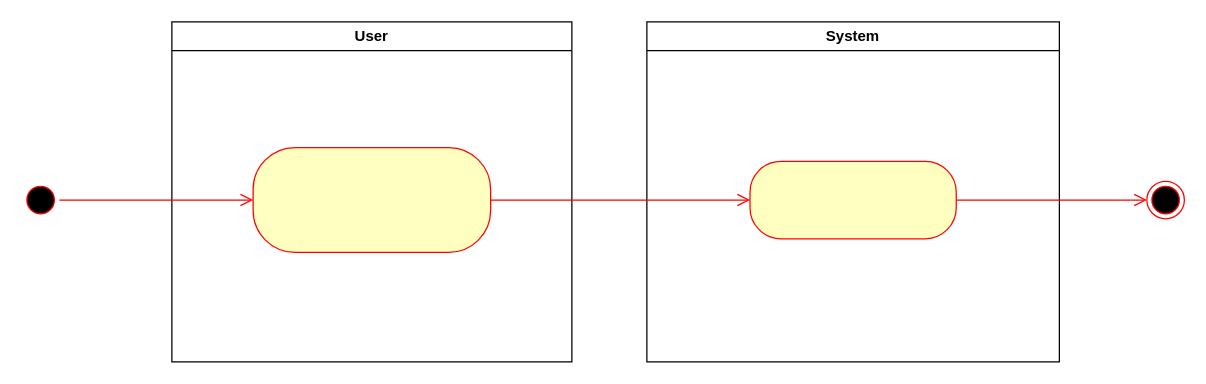
The diagram is 1206 pixels wide and 384 high, and some of its shapes have lost their labels. The shapes that lost their labels are listed below. From the top down, each one's centre as x and y in pixels, then its label:
pixel 371 199: (1) On " List Product (customer) " click " Đi đên giỏ hàng"
pixel 852 199: (2) Load " Cart " Screen
